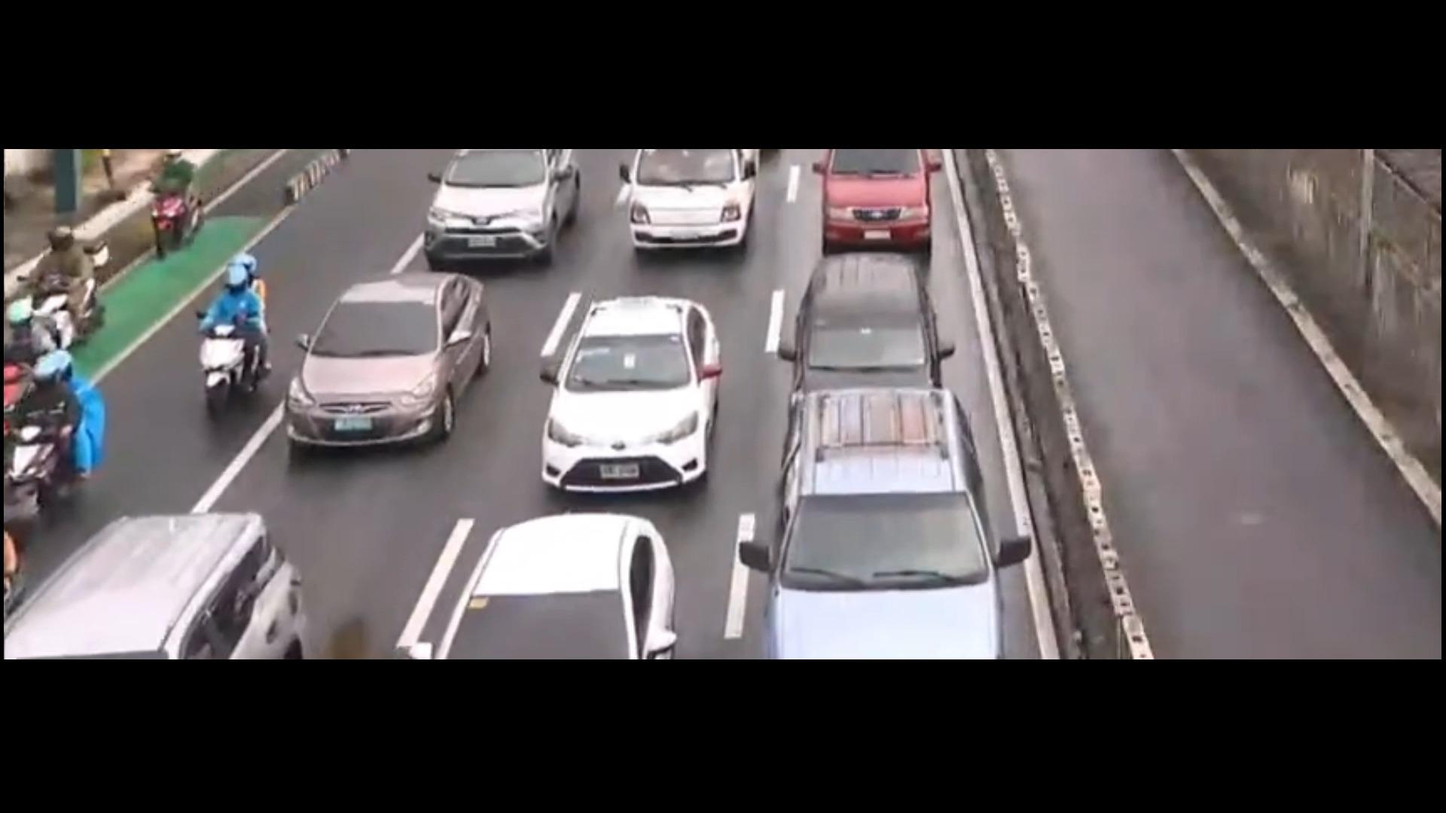Motorcycle: (173, 239, 309, 464), (3, 341, 134, 513), (138, 149, 239, 273), (28, 209, 115, 331), (0, 286, 57, 413)
SUV: (744, 384, 1028, 658), (0, 499, 302, 660), (777, 243, 972, 414), (412, 149, 593, 259), (828, 134, 953, 244)
Sedan: (248, 249, 505, 482), (533, 285, 750, 511), (437, 509, 686, 661)
Truck: (607, 154, 768, 262)
